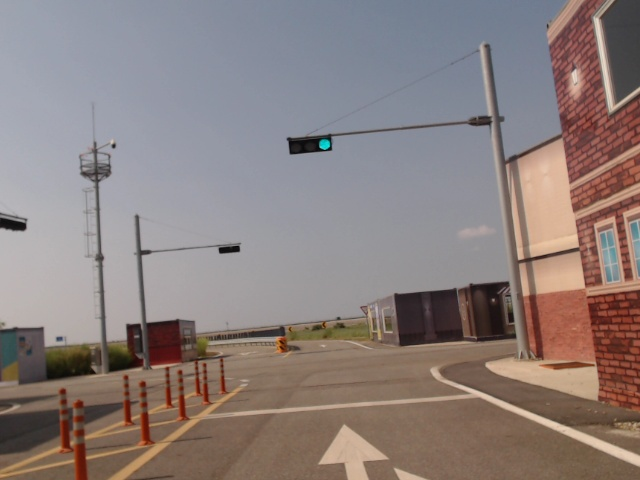green_3: (287, 133, 334, 155)
